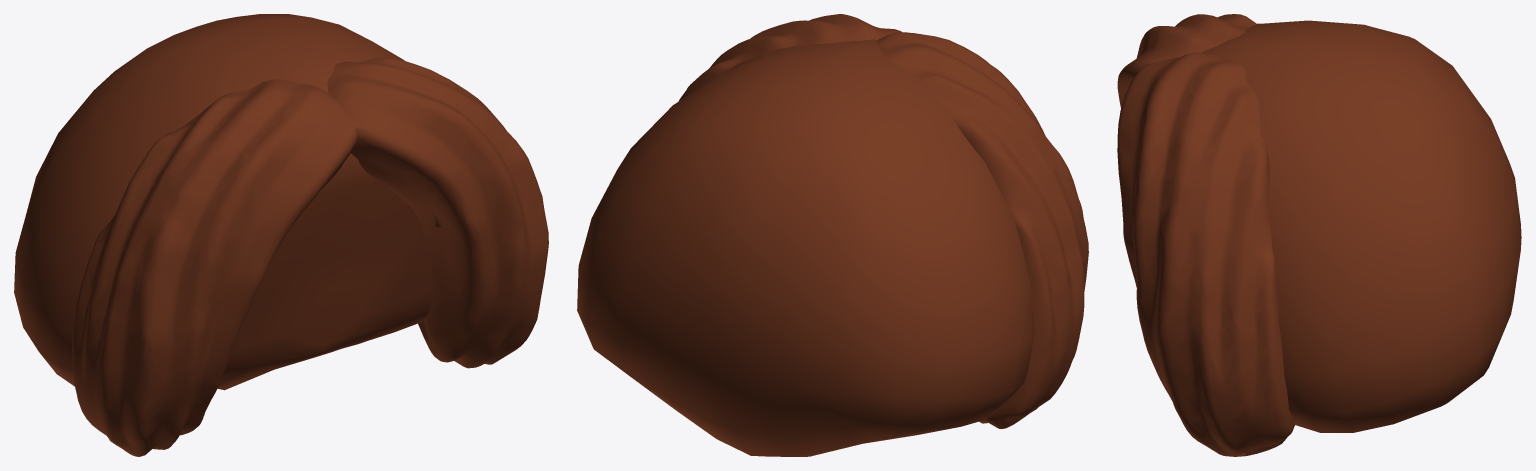
Rendered from hair-8-0b80ec17.glb.
The picture shows the model from 3 angles, left to right: view 1: azimuth 30°, elevation 25°; view 2: azimuth 150°, elevation 25°; view 3: azimuth 270°, elevation 25°; orthographic projection. The views are drawn at different scales.
Parts seen in each view (by area): view 1: hair_8.001; view 2: hair_8.001; view 3: hair_8.001.
Boxes of the visible parts, bbox=[...] form: hair_8.001: bbox=[14, 14, 548, 456]; hair_8.001: bbox=[577, 14, 1088, 456]; hair_8.001: bbox=[1117, 14, 1521, 456].
Size of the model in its own units: 2.71 by 2.14 by 2.19.
